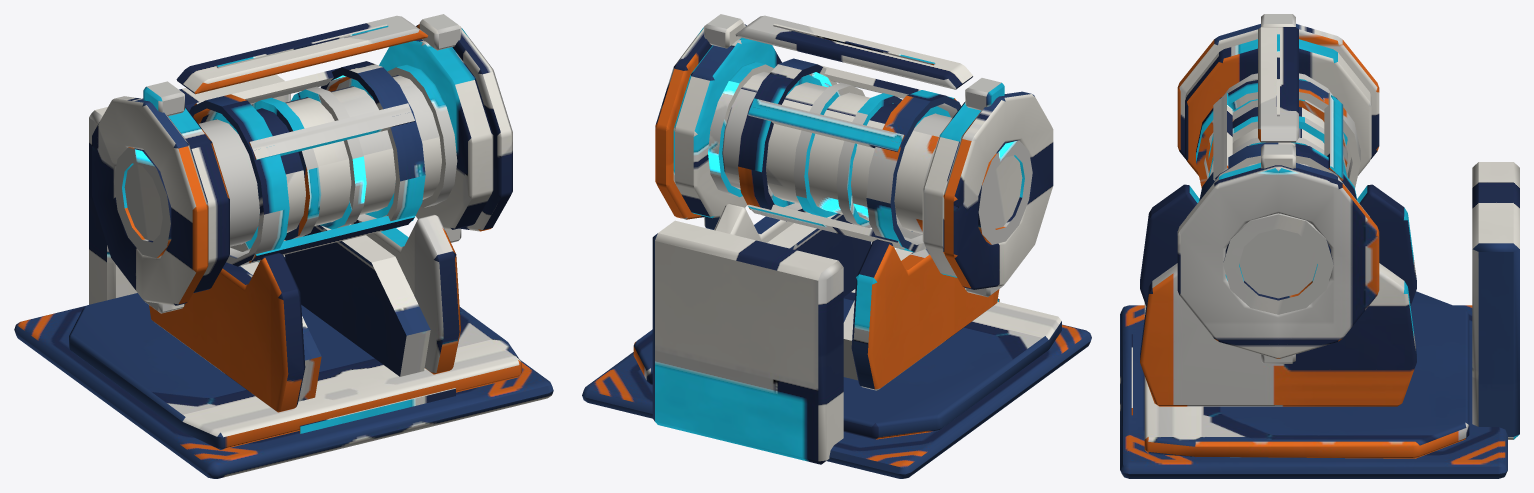
File: R4X_Battery_LOD1.fbx
The picture shows the model from 3 angles, left to right: view 1: azimuth 30°, elevation 25°; view 2: azimuth 150°, elevation 25°; view 3: azimuth 270°, elevation 25°; orthographic projection. The views are drawn at different scales.
Visible parts, largest first — view 1: R4X_Battery_LOD1; view 2: R4X_Battery_LOD1; view 3: R4X_Battery_LOD1.
Boxes of the visible parts, x1=… form: R4X_Battery_LOD1: x1=14, y1=14, x2=553, y2=478; R4X_Battery_LOD1: x1=582, y1=14, x2=1091, y2=478; R4X_Battery_LOD1: x1=1120, y1=14, x2=1519, y2=478.
Bounding box in the file's own units: 0.49 × 0.4545 × 0.505.
